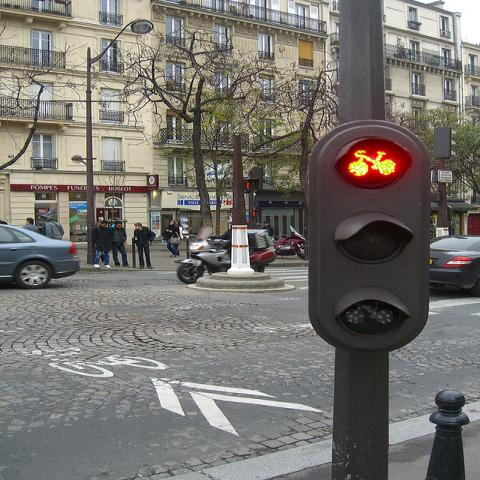car: (0, 224, 79, 290), (430, 234, 480, 296)
motorcycle: (173, 225, 277, 283), (274, 225, 309, 260)
